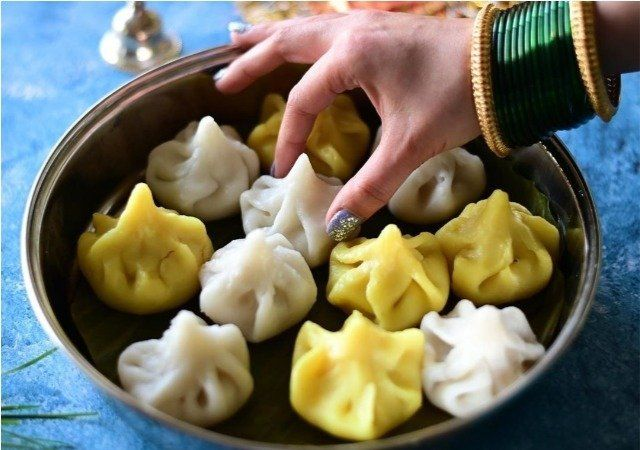modak: (78, 192, 222, 307), (291, 304, 423, 426), (441, 197, 568, 293), (334, 218, 448, 323), (122, 318, 254, 408), (158, 116, 263, 227), (412, 316, 536, 406), (198, 227, 309, 324)
